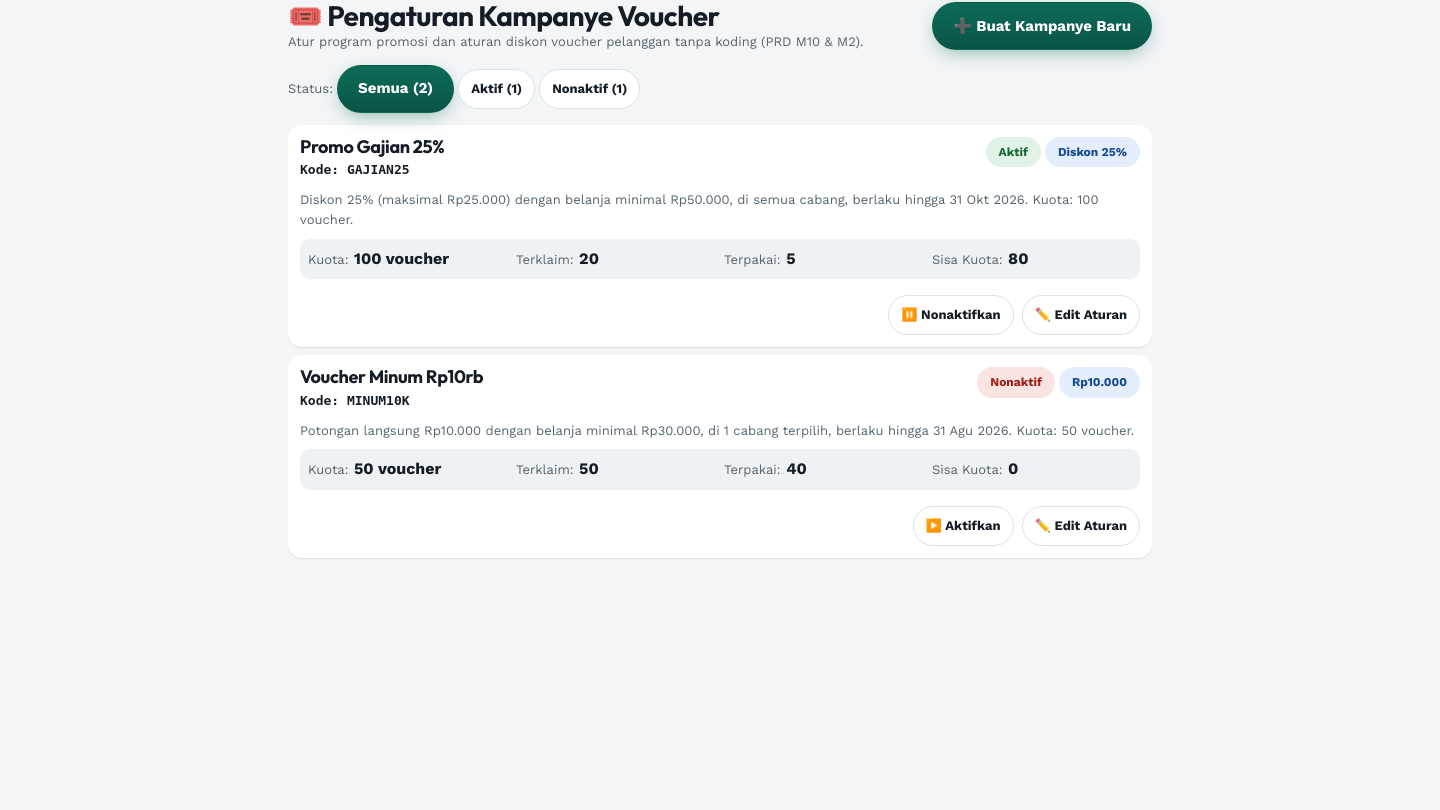
Scenario: Komponen Kampanye Pengaturan Admin (T8-11) › menolak aturan mustahil jika diskon persen melebihi 100%
The image size is (1440, 810).
Click the button "➕ Buat Kampanye Baru" at (1042, 26), box [932,2,1152,50]
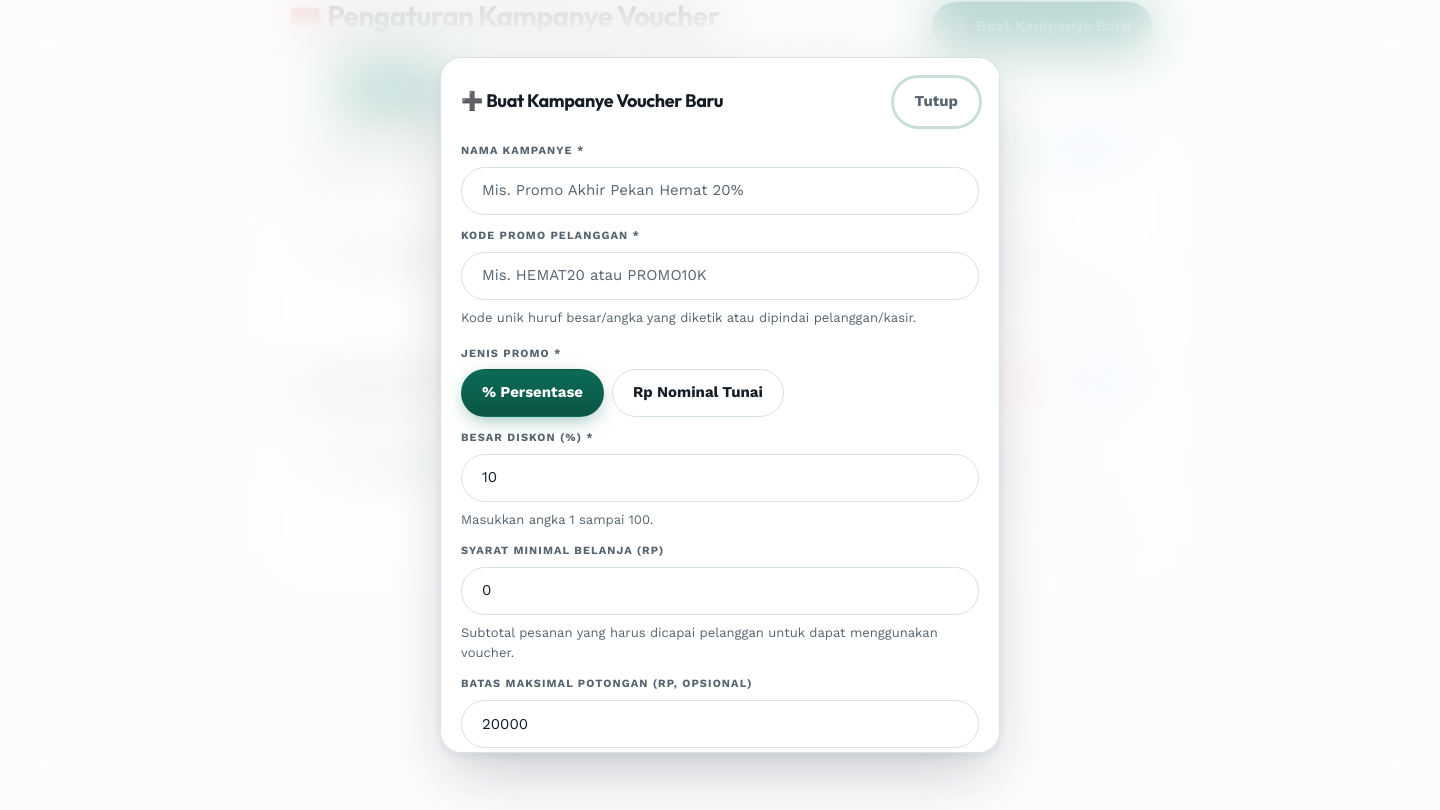
Type "Promo Raksasa" into the field labelled "Nama Kampanye *" at (720, 191), box [461,167,979,215]
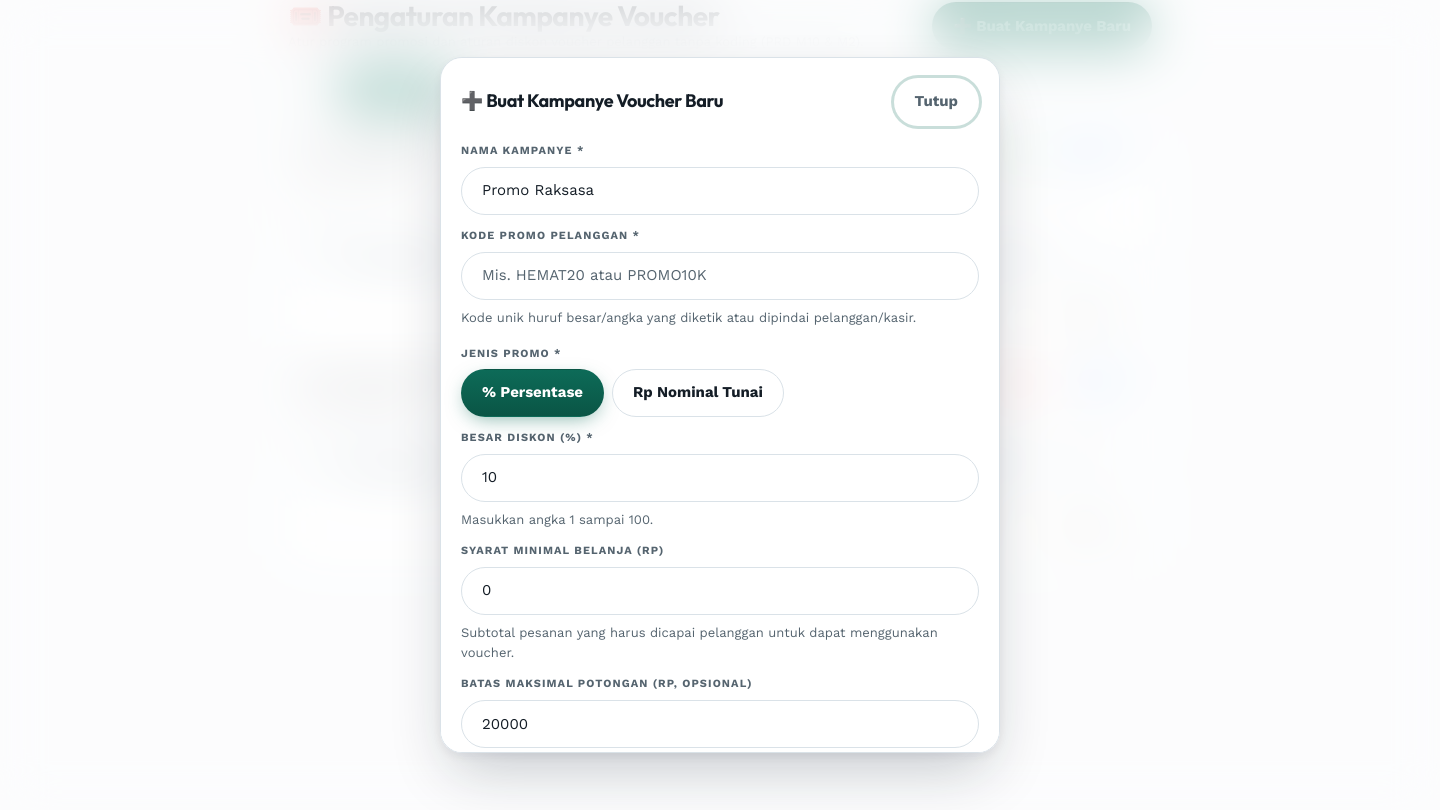
Type "RAKSASA150" into the field labelled "Kode Promo Pelanggan *" at (720, 276), box [461,252,979,300]
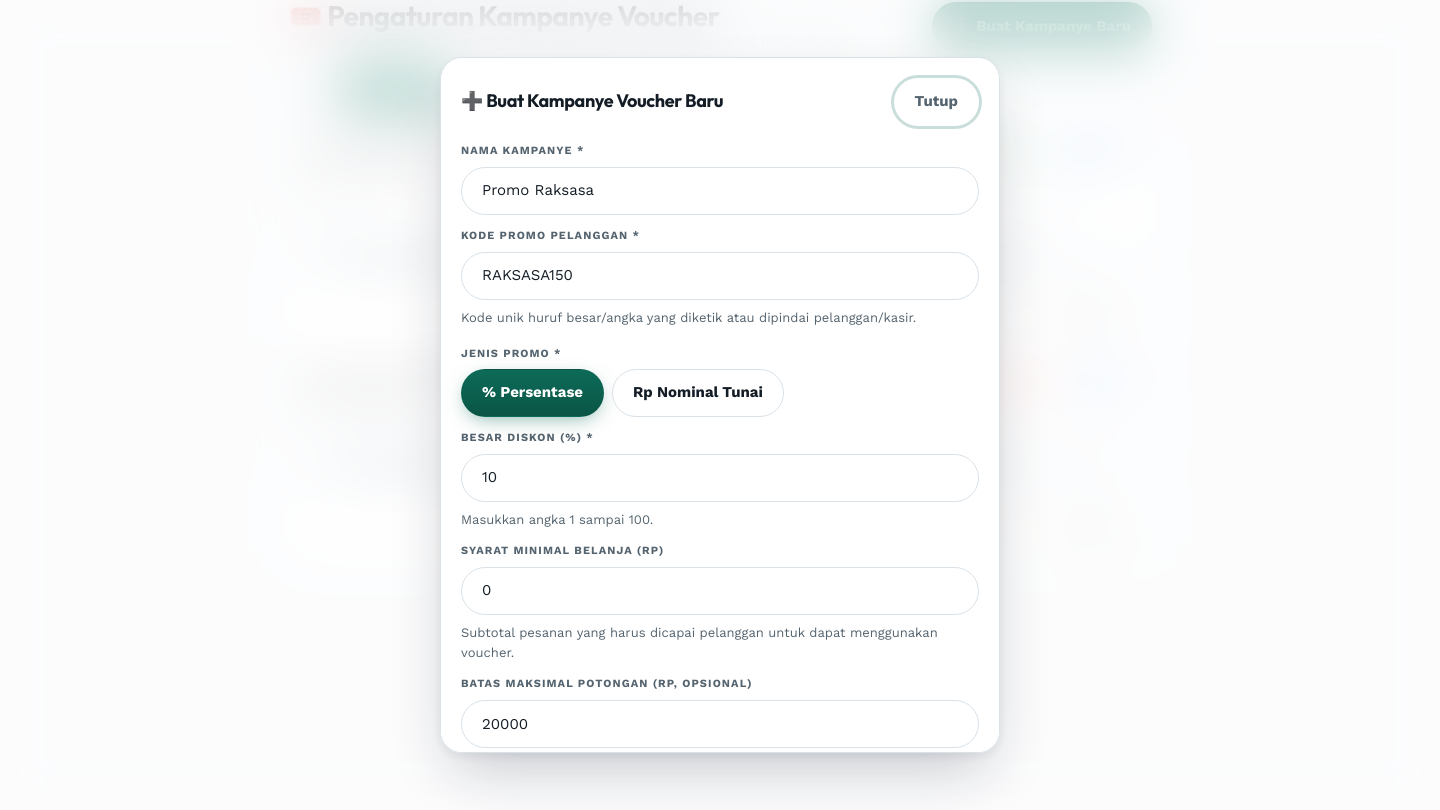
Replace the text in the number field labelled "Besar Diskon (%) *" with "150" at (720, 478), box [461,454,979,502]
(page scrolled)
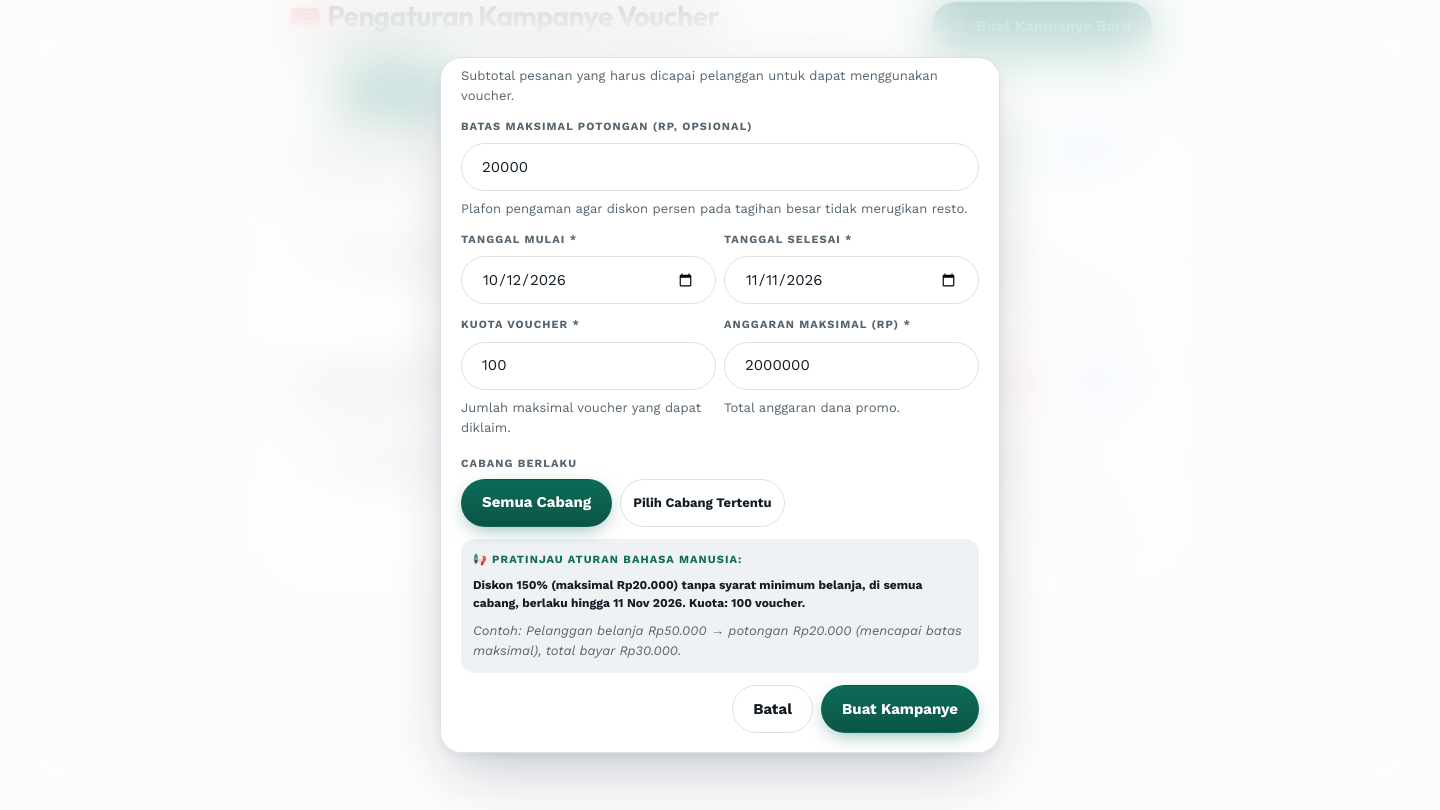
Click the button with aria-label "Simpan aturan kampanye" at (900, 709), box [821,685,979,733]
(page scrolled)
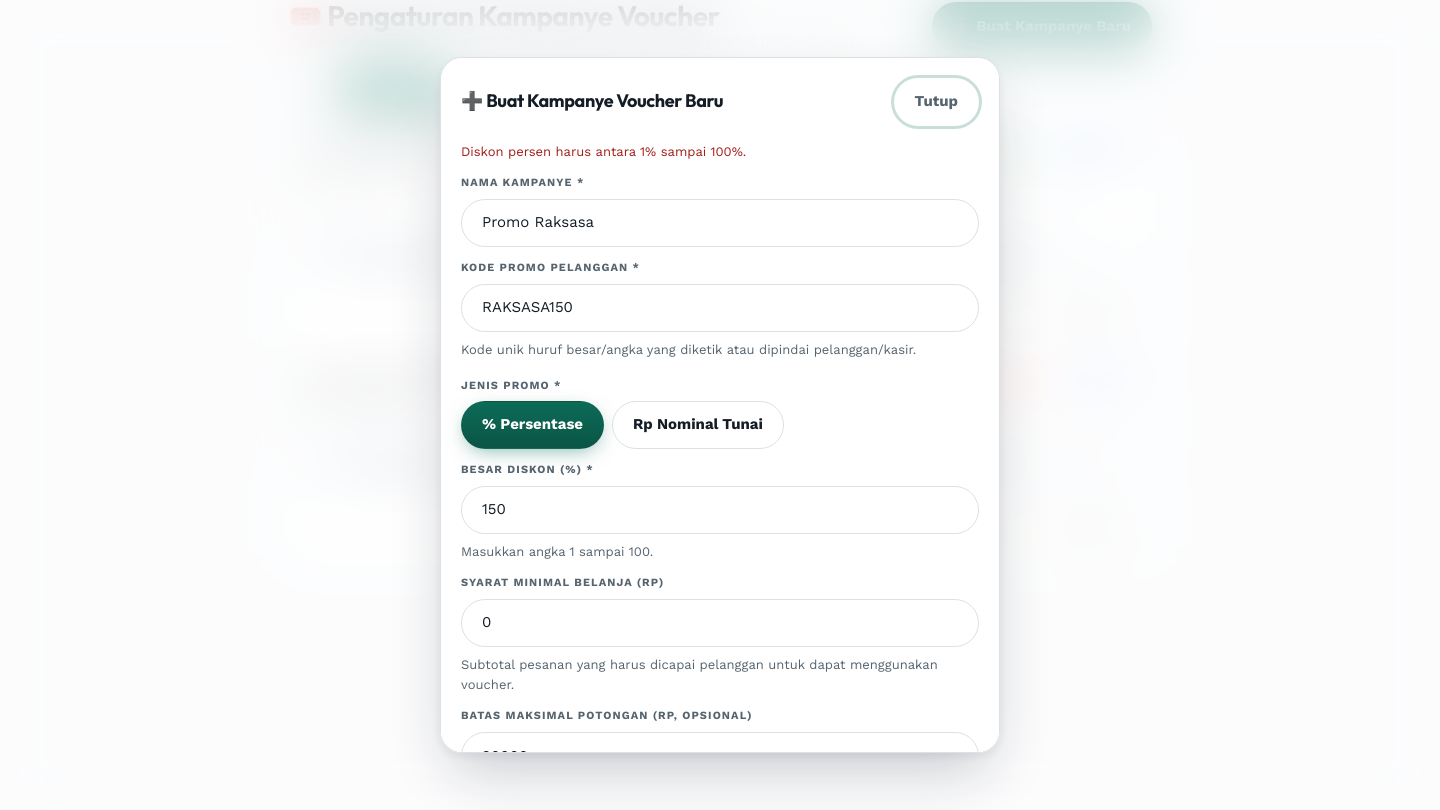
expect the text with test id "form-pesan-galat" shows "Diskon persen harus antara 1% sampai 100%": met, box [461,144,746,159]
